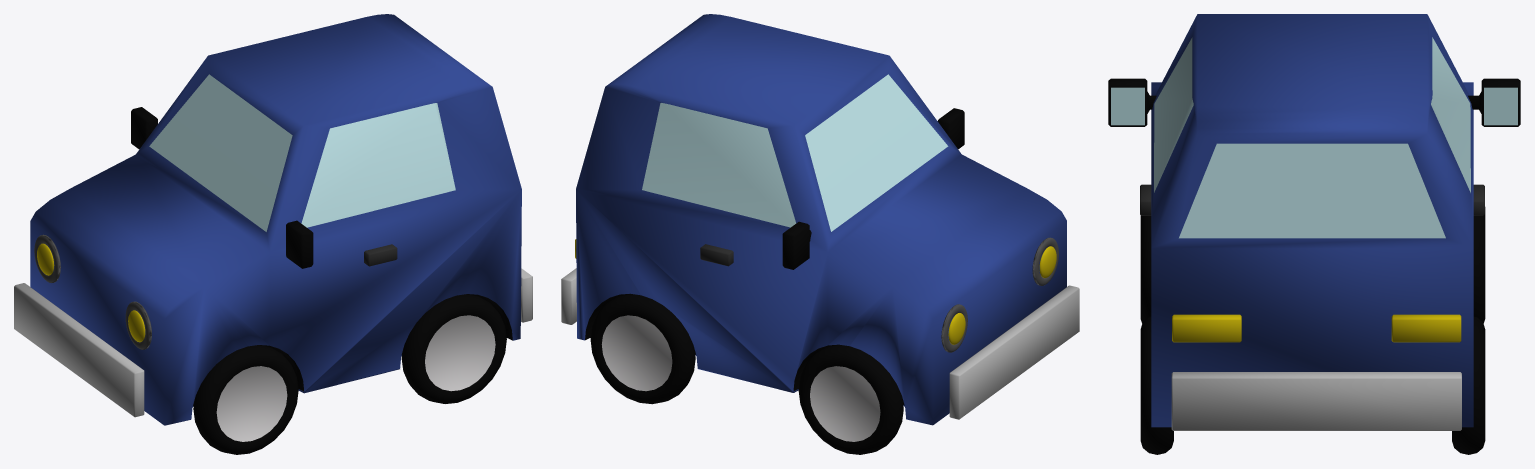
File: CarBlue.fbx
The picture shows the model from 3 angles, left to right: view 1: azimuth 30°, elevation 25°; view 2: azimuth 150°, elevation 25°; view 3: azimuth 270°, elevation 25°; orthographic projection. The views are drawn at different scales.
Visible parts, largest first — view 1: CarBody; view 2: CarBody; view 3: CarBody.
Boxes of the visible parts, bbox=[...] form: CarBody: bbox=[14, 14, 532, 454]; CarBody: bbox=[561, 14, 1079, 454]; CarBody: bbox=[1108, 14, 1520, 454].
Bounding box in the file's own units: 354 × 251 × 264.
